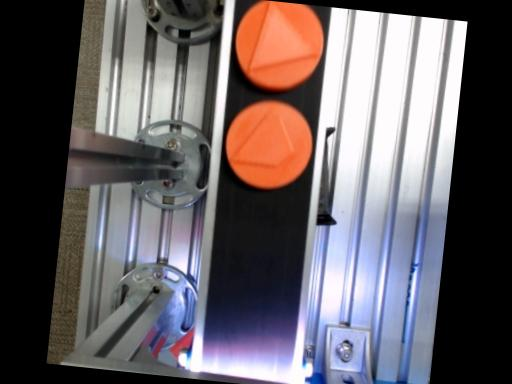Orange_Waper: (224, 100, 311, 188), (235, 0, 320, 90)
